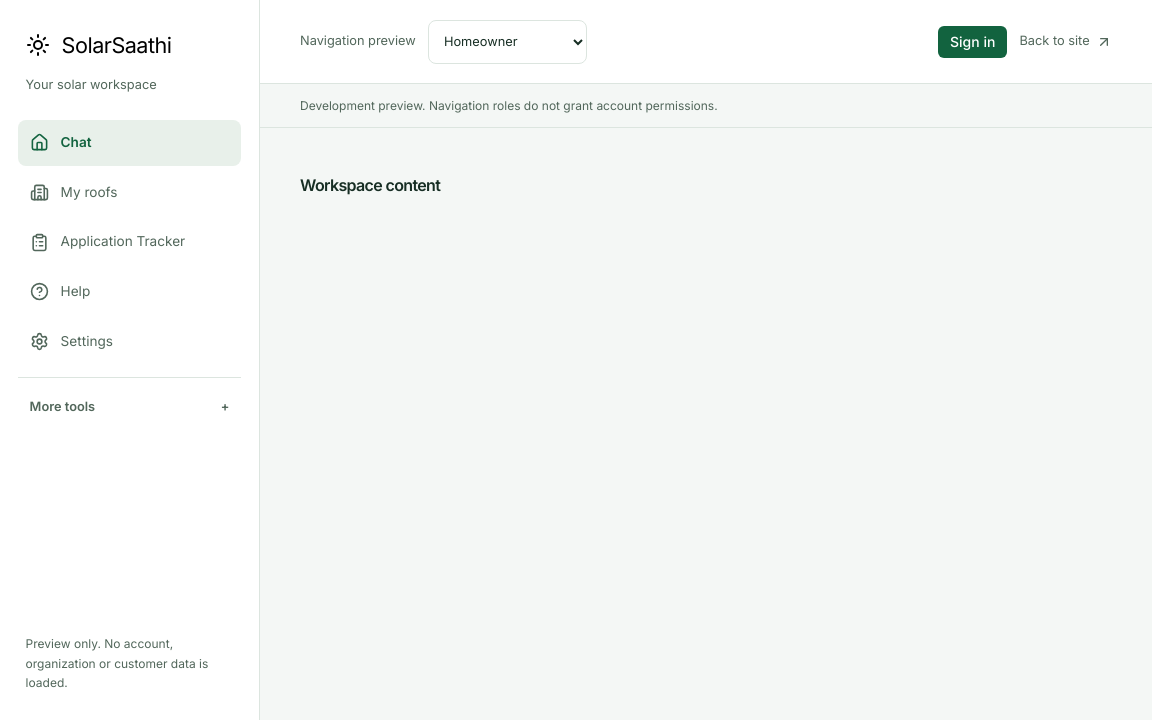
Scenario: workspace shell › changes the preview navigation without granting permissions
Select "Broker / consultant" in the dropdown labelled "Navigation preview" at (507,42), box [428,20,587,64]
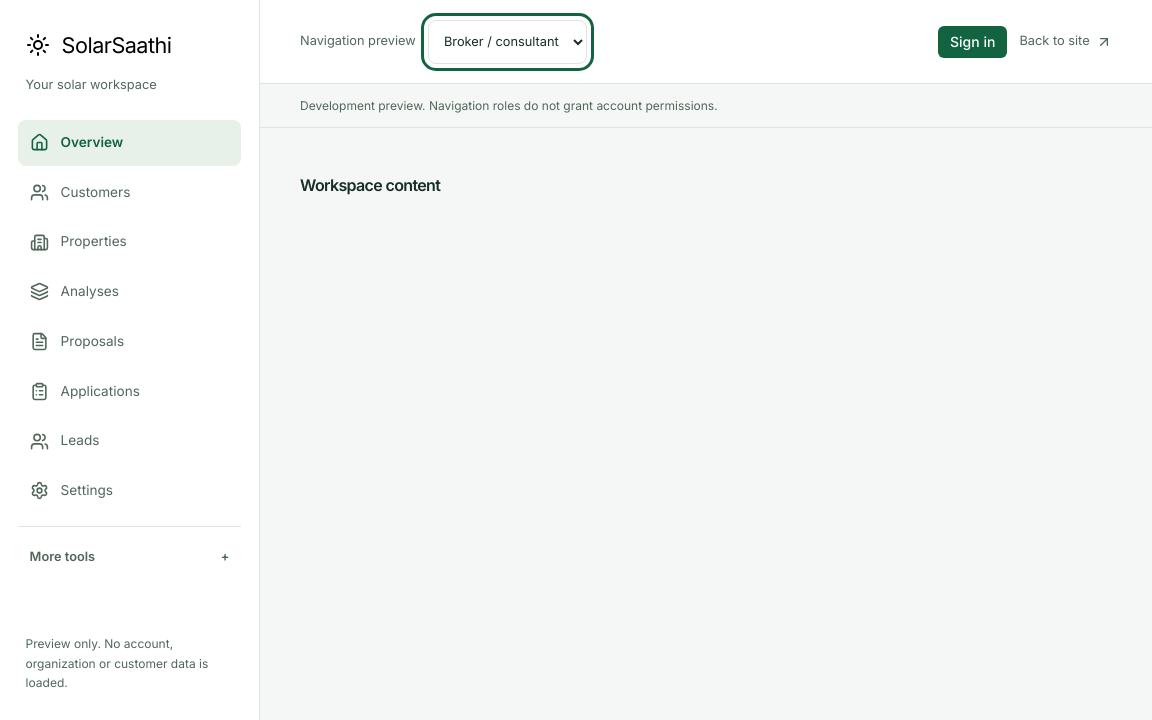
Check: the message shows "do not grant account permissions", box [300,98,718,113]
Check: the link "Customers" is shown, box [30,183,130,202]
